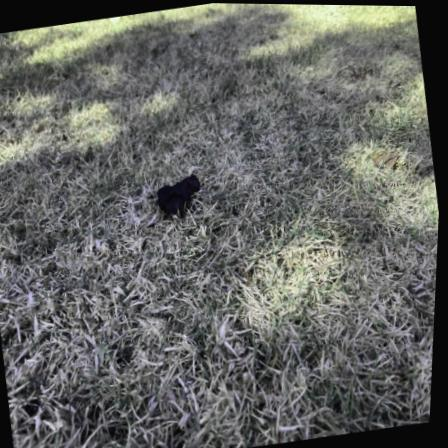dog-poop: (143, 162, 212, 222)
